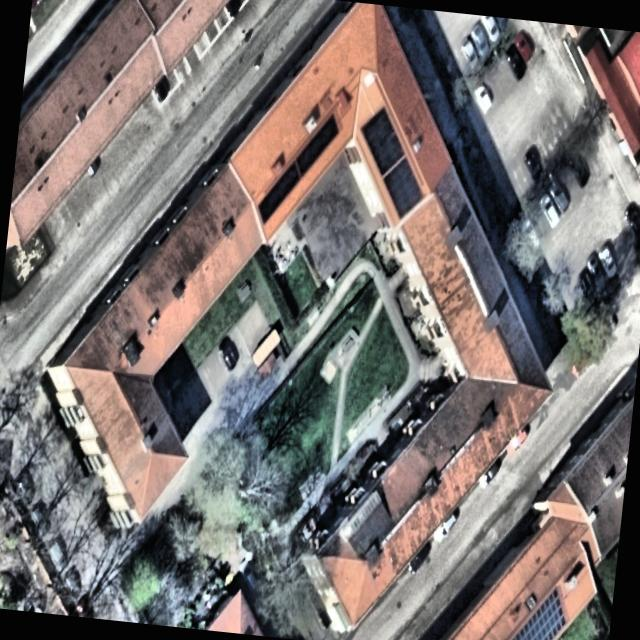roof_pv: (354, 101, 409, 179), (496, 583, 571, 640), (254, 153, 303, 232), (378, 154, 428, 224), (293, 134, 329, 183), (316, 110, 344, 151)
